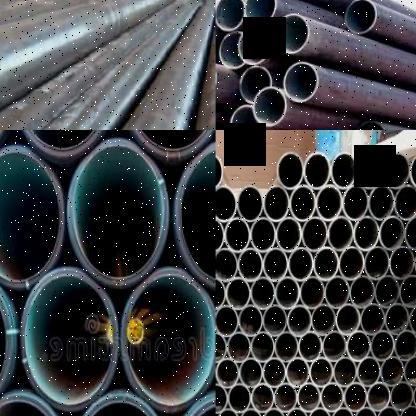pipe: (67, 139, 170, 288), (120, 268, 216, 412), (24, 274, 114, 407), (0, 150, 62, 282), (174, 141, 216, 289), (124, 130, 216, 159), (13, 130, 112, 156), (283, 62, 319, 103), (275, 14, 309, 53), (253, 87, 287, 126), (238, 26, 271, 64), (239, 66, 272, 103), (345, 0, 377, 34), (342, 183, 370, 221), (330, 150, 358, 188), (236, 184, 264, 221), (316, 183, 343, 221), (277, 151, 304, 189), (303, 151, 330, 189), (357, 150, 384, 188), (384, 150, 411, 188), (289, 184, 316, 221), (263, 184, 290, 221), (327, 215, 354, 251), (368, 184, 395, 220), (224, 216, 250, 253), (219, 32, 244, 70), (353, 215, 379, 251), (276, 216, 302, 252), (378, 215, 404, 251), (250, 216, 276, 252), (338, 245, 364, 280), (364, 245, 390, 280), (302, 216, 328, 251), (238, 247, 264, 282), (324, 275, 350, 309), (300, 275, 326, 309), (313, 246, 339, 280), (288, 247, 314, 281), (262, 247, 288, 281), (389, 245, 415, 279), (374, 274, 400, 308), (215, 0, 244, 30), (360, 302, 386, 335), (350, 275, 376, 308), (226, 276, 251, 310), (336, 302, 361, 336), (230, 104, 262, 130), (262, 303, 287, 336), (250, 276, 275, 309), (275, 276, 300, 309), (311, 303, 336, 336), (384, 302, 409, 335), (0, 271, 6, 407), (394, 183, 416, 220), (245, 0, 276, 26), (238, 304, 263, 336), (274, 330, 299, 362), (250, 330, 275, 362), (298, 330, 323, 362), (287, 304, 312, 336), (333, 355, 358, 387), (356, 355, 381, 387), (370, 329, 395, 361), (216, 184, 237, 221), (346, 330, 371, 361), (216, 247, 238, 282), (216, 356, 240, 388), (262, 356, 286, 388), (238, 357, 263, 387), (227, 331, 251, 362), (322, 330, 346, 361), (286, 356, 310, 387), (380, 355, 404, 386), (309, 356, 333, 387), (320, 381, 344, 412), (344, 381, 368, 412), (250, 382, 274, 413), (297, 381, 321, 412), (390, 380, 414, 411), (393, 328, 416, 360), (274, 382, 298, 412), (366, 381, 390, 411), (228, 382, 251, 413), (216, 304, 238, 336), (398, 274, 416, 307), (404, 214, 416, 250), (403, 354, 416, 385), (216, 382, 228, 413), (216, 330, 226, 362), (216, 276, 225, 310), (353, 121, 386, 130), (216, 216, 224, 252), (216, 150, 223, 190), (409, 150, 416, 188), (408, 301, 416, 334), (330, 405, 354, 416), (353, 405, 377, 416), (377, 405, 400, 416), (308, 406, 332, 416), (262, 406, 285, 416), (285, 406, 308, 416), (216, 407, 240, 416), (240, 407, 262, 416), (398, 405, 416, 416)
